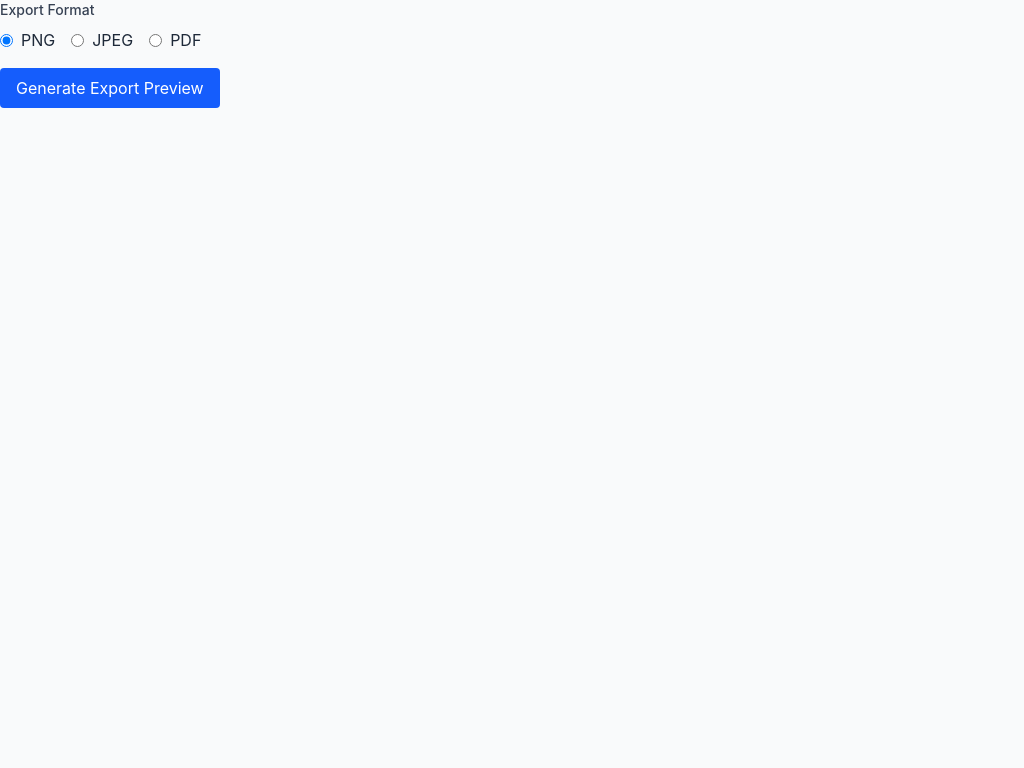
Test: CollageExporter › generates export preview
What coordinates should you click on to do the following:
click the button "Generate Export Preview"
I would click on:
 (110, 88)
Its box is 0,68 -> 220,108.
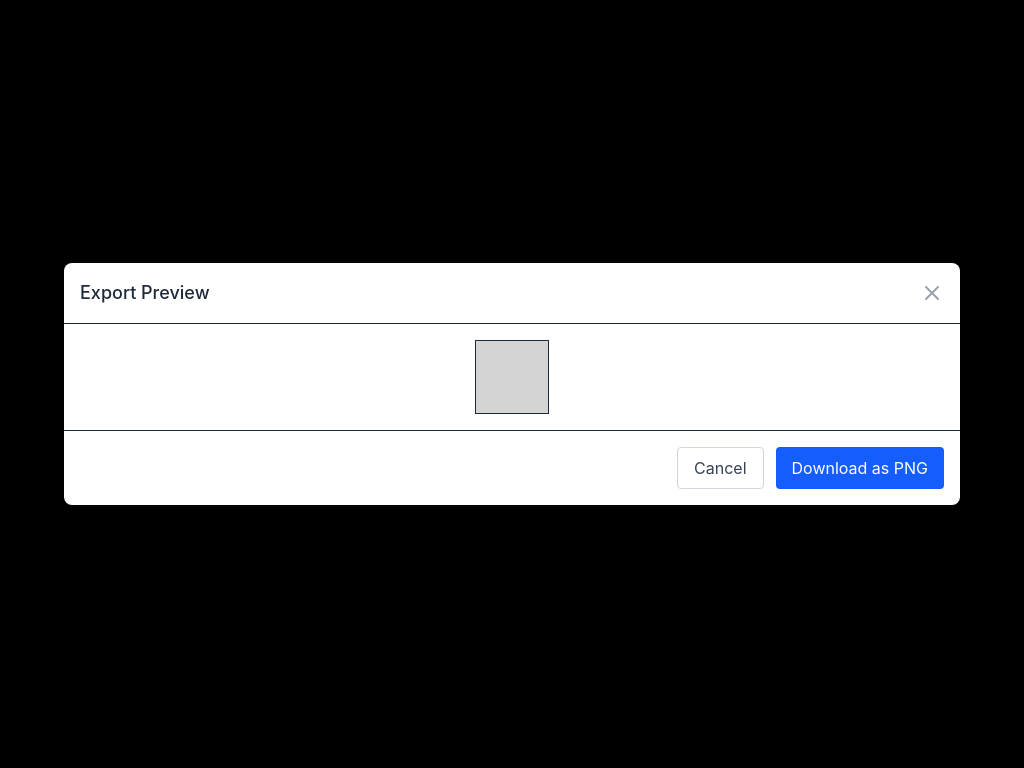
Now the heading "Export Preview" is shown, box 80,279 -> 210,307
